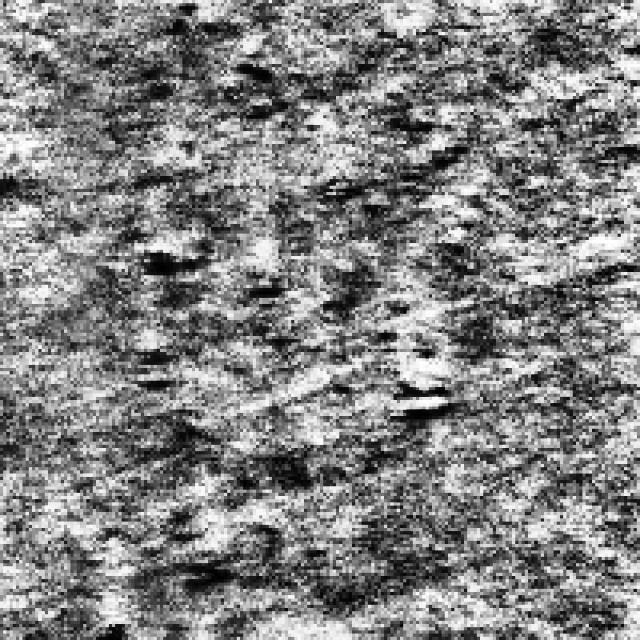Crazing: (278, 106, 468, 428)
